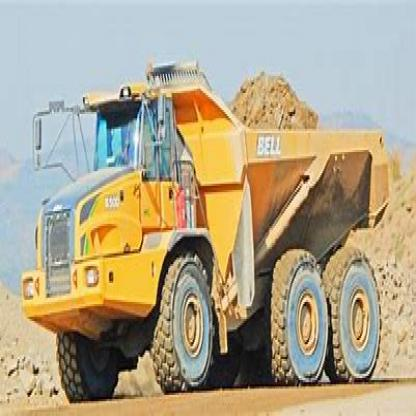dump_truck: (18, 46, 395, 393)
